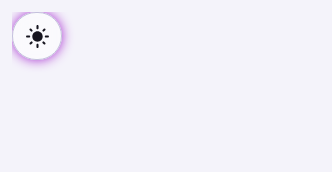
ThemeSwitcher › keeps the theme when the language changes
Earlier steps of the test are not shown.
Click the button named "Color theme": coordinates (37, 36) [13, 12, 61, 60]
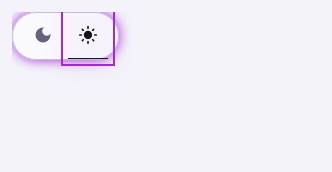
expect the button named "Light" is pressed: met, box [68, 14, 108, 58]
